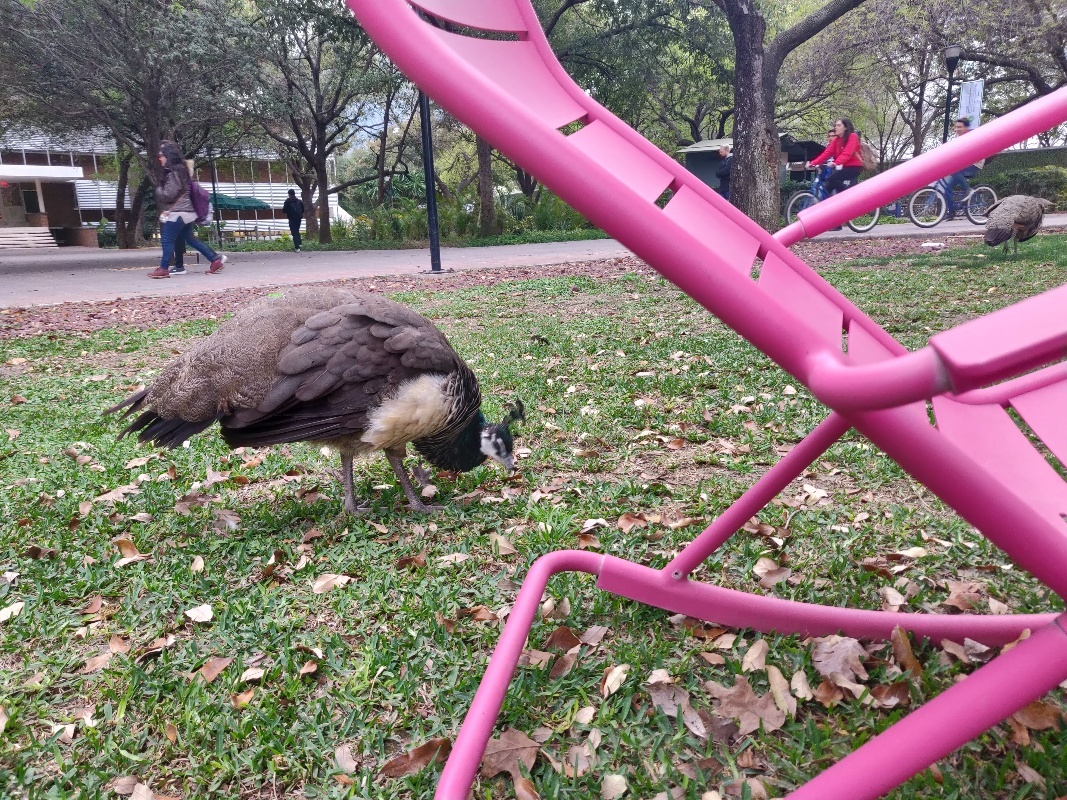pavoreal: (147, 288, 511, 484)
